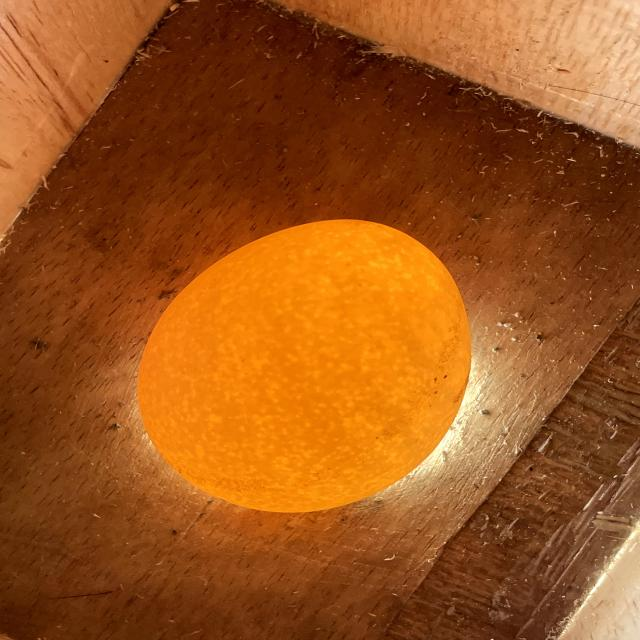infertile: (138, 220, 470, 513)
